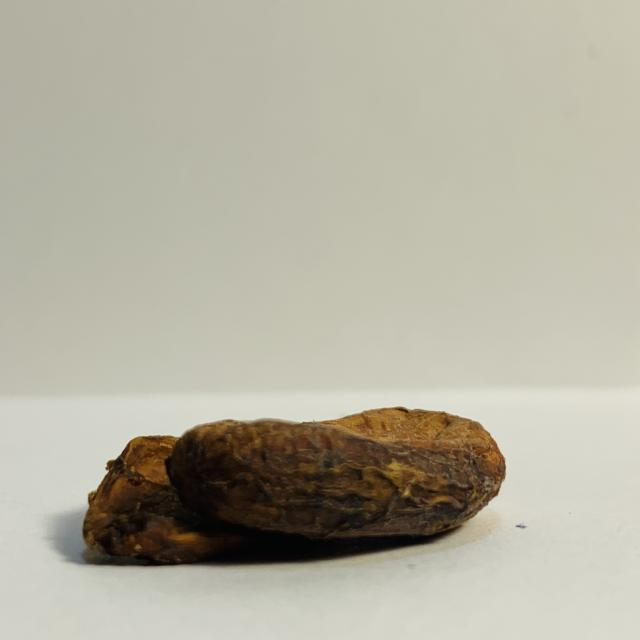Agglomerated_cocoabeans: (38, 341, 538, 584)
